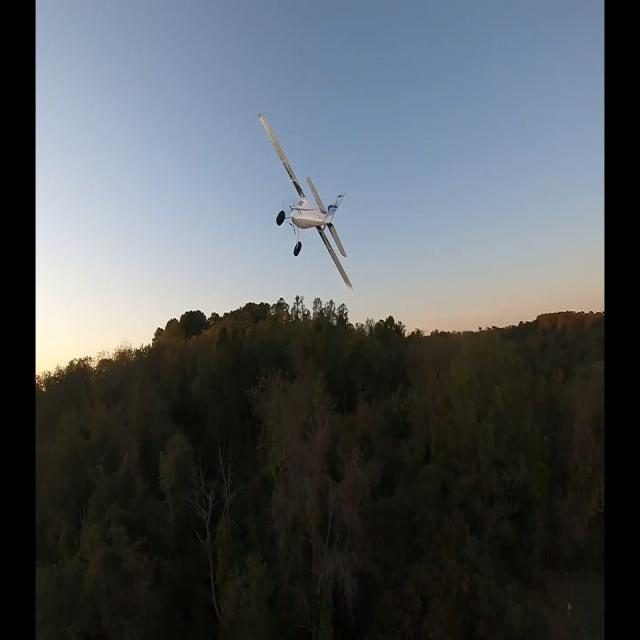iha: (290, 102, 320, 285)
